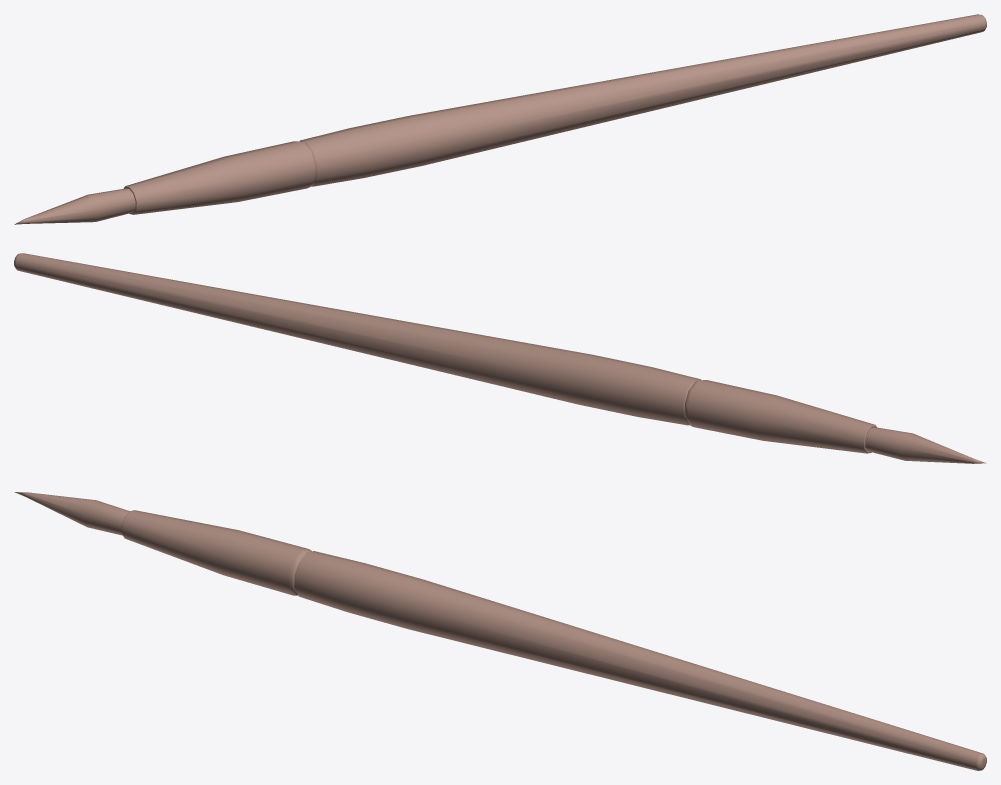
File: brush1.fbx
The picture shows the model from 3 angles, top to bottom: view 1: azimuth 30°, elevation 25°; view 2: azimuth 150°, elevation 25°; view 3: azimuth 330°, elevation 25°; orthographic projection.
Parts seen in each view (by area): view 1: pCylinder7; view 2: pCylinder7; view 3: pCylinder7.
Part boxes in pixels (<box>): pCylinder7: <box>14,14,986,224</box>; pCylinder7: <box>14,253,986,463</box>; pCylinder7: <box>14,492,986,770</box>.
Bounding box in the file's own units: 0.515 × 0.0285 × 0.0229.
